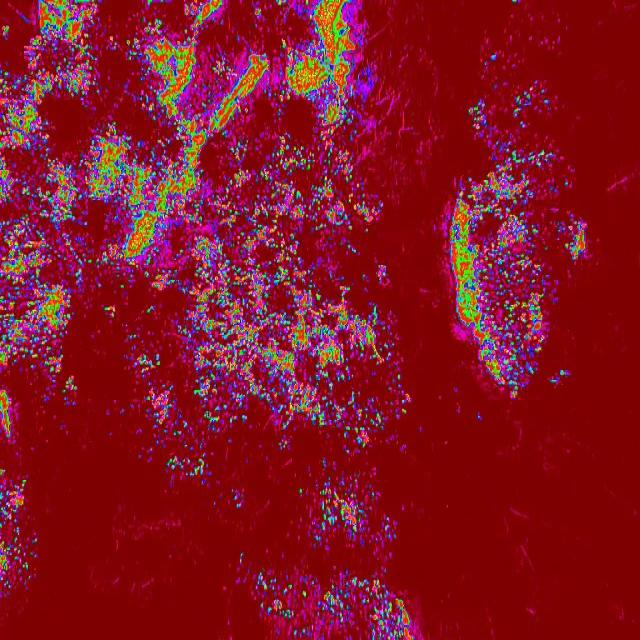fire: (0, 0, 391, 286), (140, 286, 416, 458), (451, 176, 548, 394), (250, 564, 422, 640), (471, 81, 561, 175), (302, 476, 401, 550), (0, 286, 74, 376), (0, 474, 39, 601), (559, 209, 590, 262), (162, 456, 208, 479), (0, 388, 14, 442)
